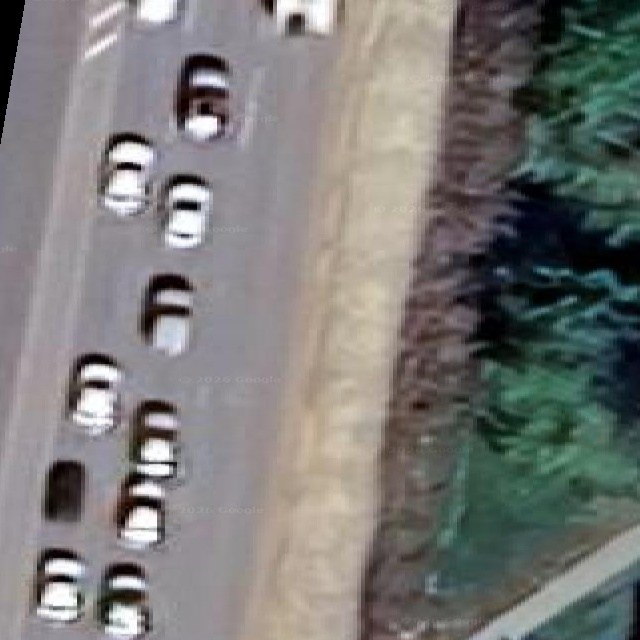car: (176, 54, 230, 141), (98, 134, 155, 216), (68, 354, 122, 434), (141, 275, 192, 355), (97, 563, 150, 639), (130, 401, 179, 480), (35, 550, 84, 623), (116, 474, 164, 548), (160, 177, 210, 248), (43, 460, 84, 522), (272, 0, 343, 35), (130, 0, 183, 26)
